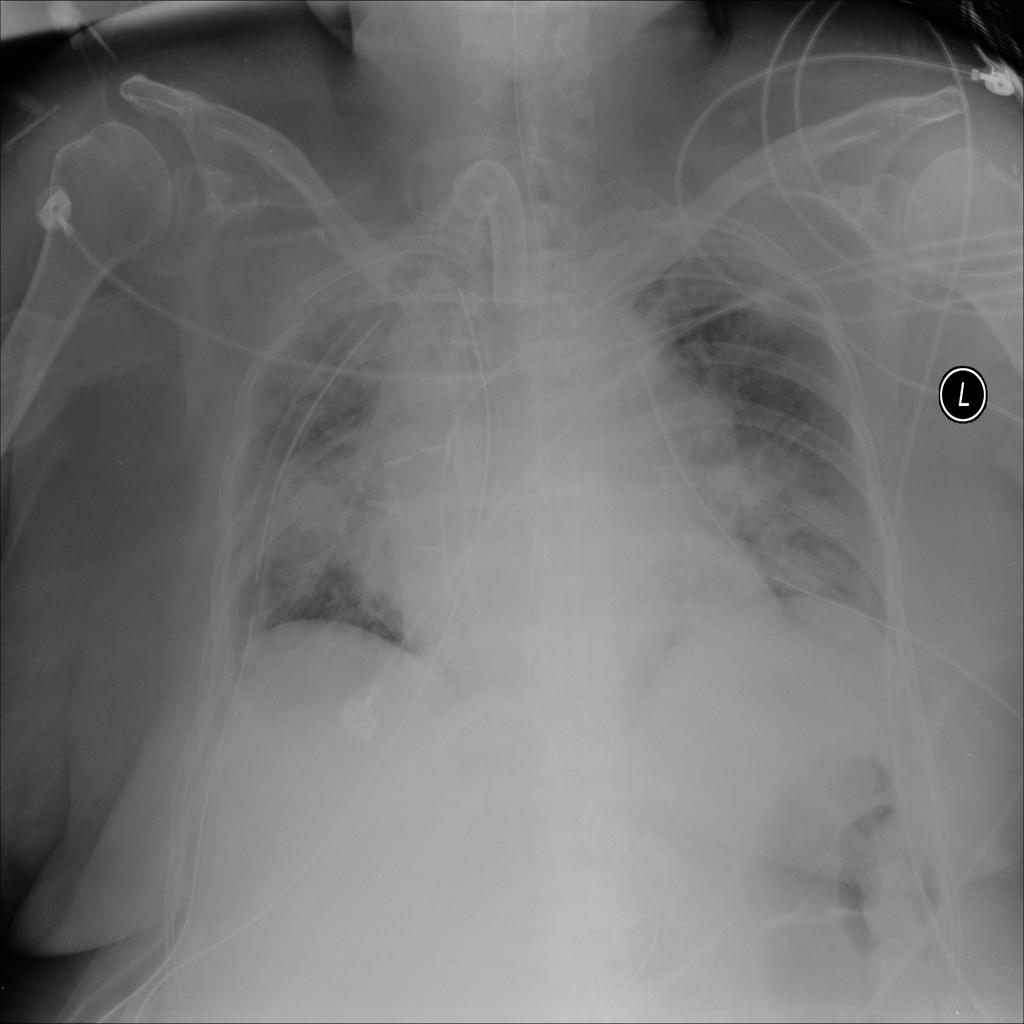nodule: (262, 454, 371, 575)
